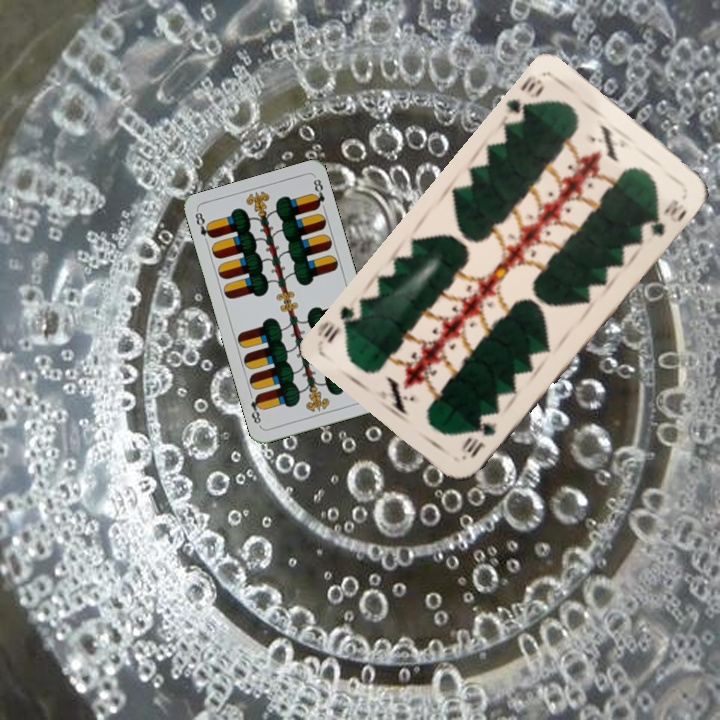E8: (191, 208, 215, 248)
G10: (502, 71, 548, 126), (459, 418, 500, 462)
